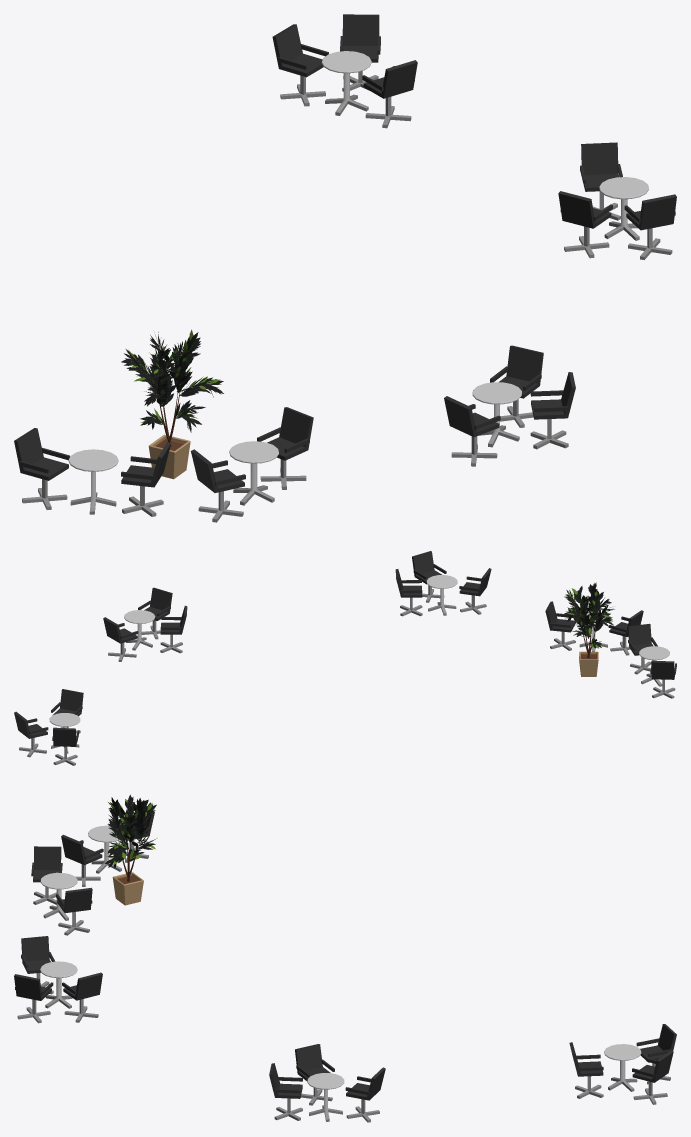
File: d-roomcomp-t-server-in.glb
3 renders of one model, top to bottom at view 1: azimuth 30°, elevation 25°; view 2: azimuth 150°, elevation 25°; view 3: azimuth 270°, elevation 25°, orthographic. The views are drawn at different scales.
Parts seen in each view (by area): view 1: d-roomcomp-t-server; view 2: d-roomcomp-t-server; view 3: d-roomcomp-t-server.
Boxes of the visible parts, box(x1,y1,x2,y2) form: d-roomcomp-t-server: box(14, 14, 676, 522); d-roomcomp-t-server: box(14, 551, 676, 765); d-roomcomp-t-server: box(14, 794, 676, 1122).
Size of the model in its own units: 17.69 by 3.09 by 17.91.
Materials: 1 (1 with a texture image).
